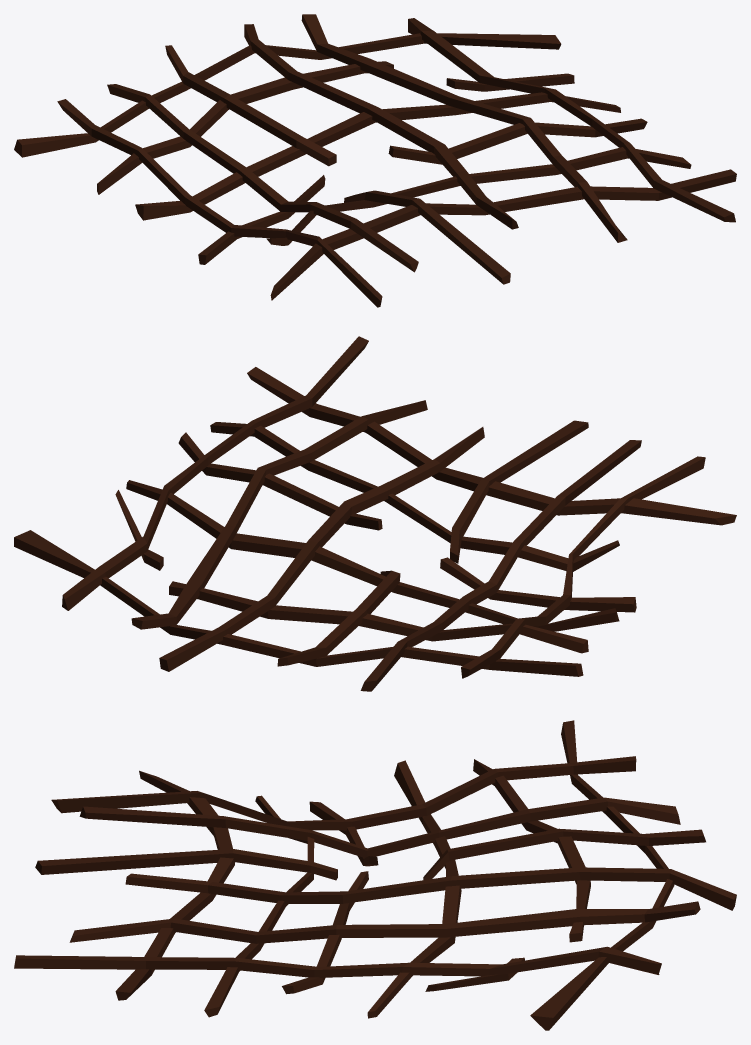
Rendered from net.gltf.
The picture shows the model from 3 angles, top to bottom: view 1: azimuth 30°, elevation 25°; view 2: azimuth 150°, elevation 25°; view 3: azimuth 270°, elevation 25°; orthographic projection. The views are drawn at different scales.
Visible parts, largest first — view 1: net; view 2: net; view 3: net.
Part boxes in pixels (x1,y1,x2,y2): net: [14, 14, 736, 307]; net: [14, 336, 736, 691]; net: [14, 720, 736, 1030].
Size of the model in its own units: 3.86 by 0.3956 by 4.19.
